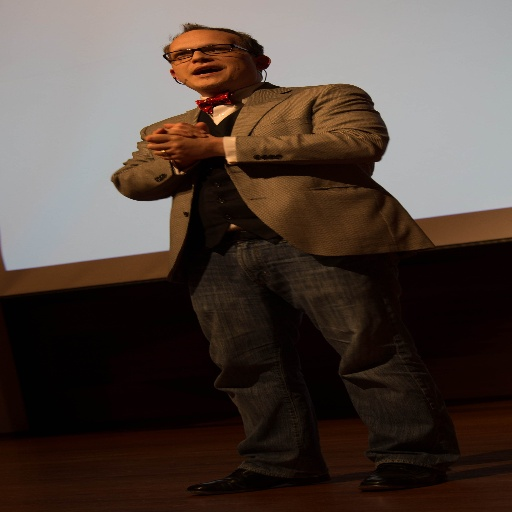hand: (135, 114, 225, 155), (158, 119, 210, 139)
